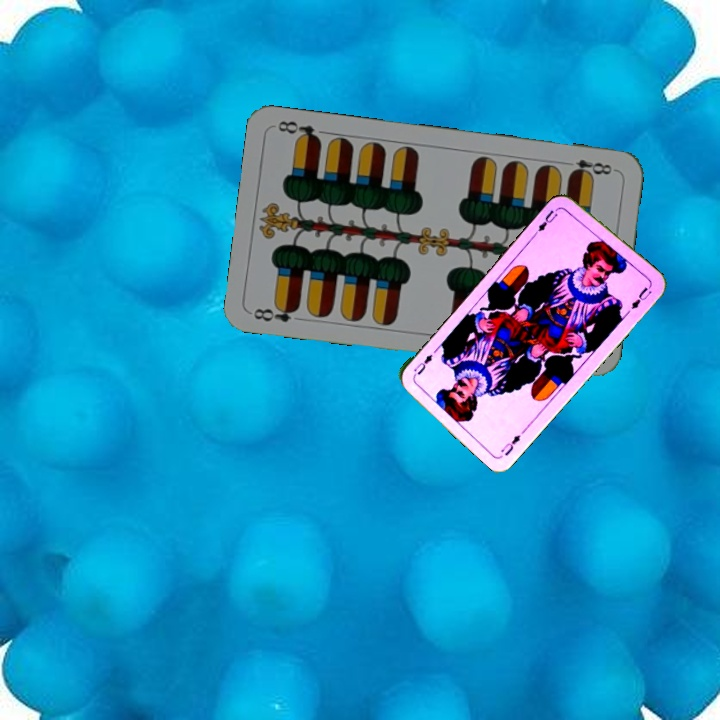E8: (559, 155, 618, 180), (249, 300, 307, 325)
EU: (532, 203, 567, 236), (496, 430, 523, 458)
